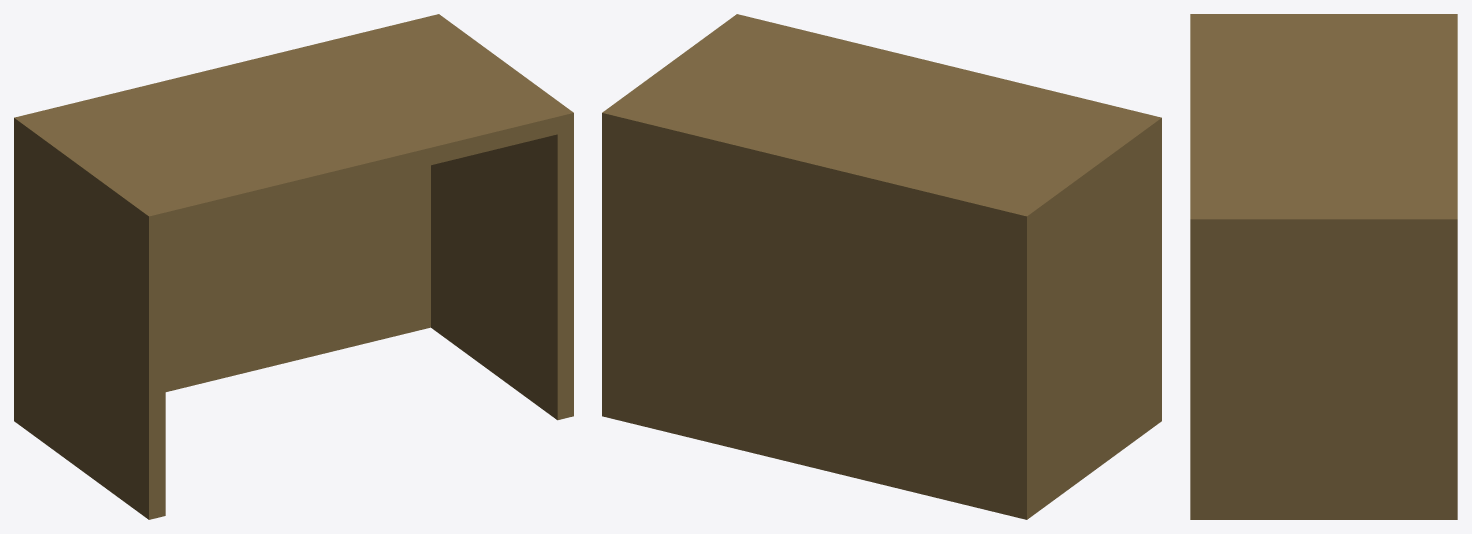
The model's file is Itr_Wardrobe2_Body2_01.FBX.
The picture shows the model from 3 angles, left to right: view 1: azimuth 30°, elevation 25°; view 2: azimuth 150°, elevation 25°; view 3: azimuth 270°, elevation 25°; orthographic projection.
Parts seen in each view (by area): view 1: Itr_Wardrobe2_Body2_01; view 2: Itr_Wardrobe2_Body2_01; view 3: Itr_Wardrobe2_Body2_01.
Part boxes in pixels (x1=…): Itr_Wardrobe2_Body2_01: x1=14, y1=14, x2=573, y2=519; Itr_Wardrobe2_Body2_01: x1=602, y1=14, x2=1161, y2=519; Itr_Wardrobe2_Body2_01: x1=1190, y1=14, x2=1457, y2=519.
Size of the model in its own units: 39.14 by 26.71 by 21.54.
